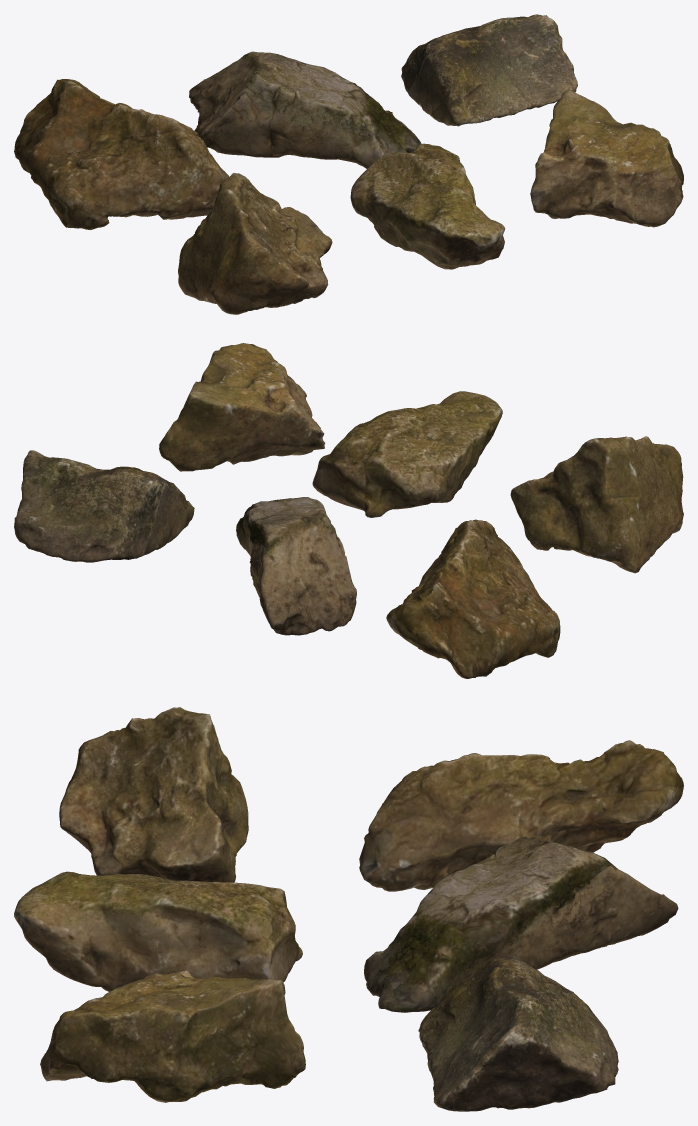
Rendered from rock_moss_set_01_leve.gltf.
The picture shows the model from 3 angles, top to bottom: view 1: azimuth 30°, elevation 25°; view 2: azimuth 150°, elevation 25°; view 3: azimuth 270°, elevation 25°; orthographic projection. The views are drawn at different scales.
Parts seen in each view (by area): view 1: rock_moss_set_01_rock01, rock_moss_set_01_rock02, rock_moss_set_01_rock06, rock_moss_set_01_rock04, rock_moss_set_01_rock03, rock_moss_set_01_rock05; view 2: rock_moss_set_01_rock04, rock_moss_set_01_rock01, rock_moss_set_01_rock05, rock_moss_set_01_rock03, rock_moss_set_01_rock06, rock_moss_set_01_rock02; view 3: rock_moss_set_01_rock01, rock_moss_set_01_rock02, rock_moss_set_01_rock05, rock_moss_set_01_rock04, rock_moss_set_01_rock06, rock_moss_set_01_rock03.
Part boxes in pixels (left/top/right/bottom): rock_moss_set_01_rock01: left=14, top=79, right=229, bottom=229; rock_moss_set_01_rock02: left=189, top=51, right=421, bottom=168; rock_moss_set_01_rock06: left=530, top=89, right=683, bottom=227; rock_moss_set_01_rock04: left=178, top=173, right=332, bottom=314; rock_moss_set_01_rock03: left=401, top=14, right=577, bottom=126; rock_moss_set_01_rock05: left=350, top=143, right=505, bottom=269; rock_moss_set_01_rock04: left=510, top=436, right=683, bottom=573; rock_moss_set_01_rock01: left=386, top=519, right=560, bottom=678; rock_moss_set_01_rock05: left=312, top=391, right=502, bottom=517; rock_moss_set_01_rock03: left=14, top=450, right=194, bottom=562; rock_moss_set_01_rock06: left=159, top=343, right=325, bottom=471; rock_moss_set_01_rock02: left=236, top=497, right=356, bottom=635; rock_moss_set_01_rock01: left=359, top=740, right=683, bottom=891; rock_moss_set_01_rock02: left=364, top=836, right=678, bottom=1012; rock_moss_set_01_rock05: left=14, top=871, right=302, bottom=991; rock_moss_set_01_rock04: left=59, top=707, right=248, bottom=882; rock_moss_set_01_rock06: left=40, top=970, right=305, bottom=1102; rock_moss_set_01_rock03: left=418, top=956, right=618, bottom=1111.
Bounding box in the file's own units: 8 × 1.77 × 6.95.
Materials: 1 (1 with a texture image).
